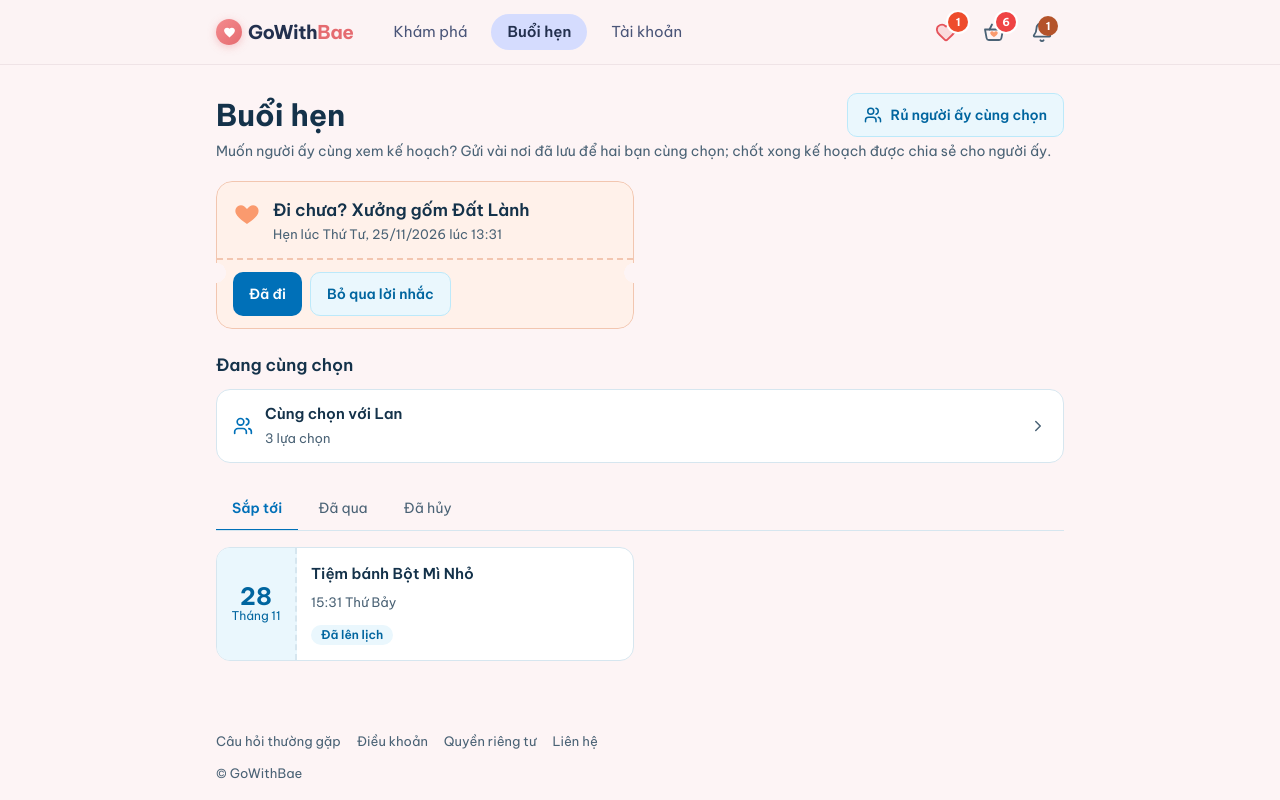
Test: UC-014 Lời nhắc "Đi chưa?" (CR-001) › Đã đi: ghi tự xác nhận và đóng lời nhắc
This screenshot has width=1280, height=800.
Step 1. Click the button "Đã đi" → (267,294), box [233, 272, 302, 316]
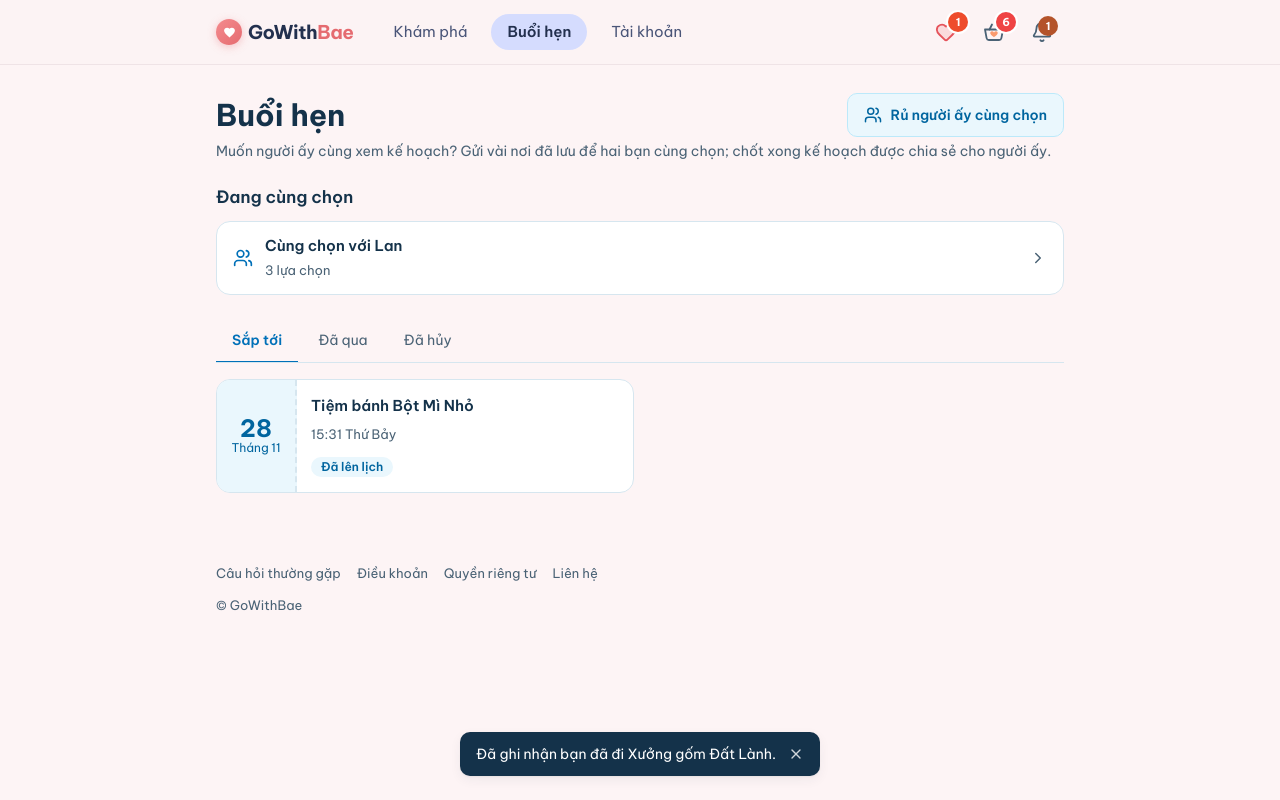
Check: the heading "Đi chưa?" is gone
